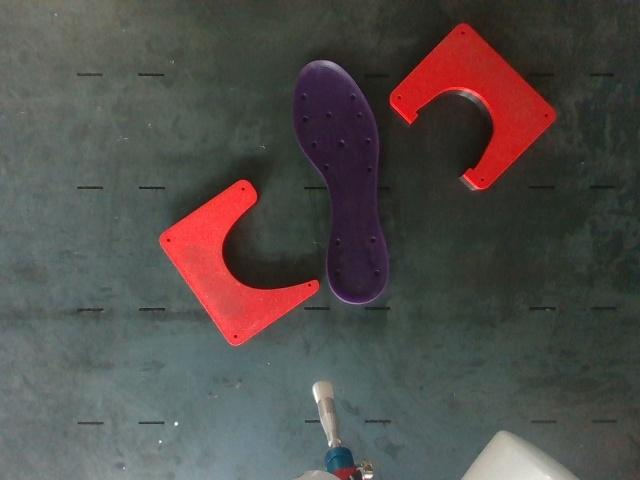shoes: (294, 59, 389, 304)
